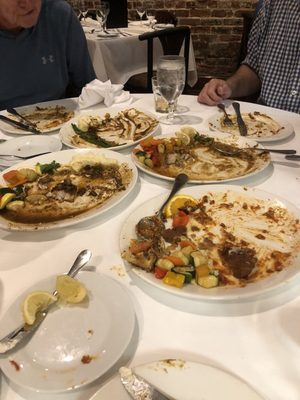salad: (0, 275, 89, 358), (0, 287, 60, 356), (159, 173, 189, 217)
sandwich: (0, 112, 40, 133), (232, 102, 247, 136)
sushi: (119, 182, 300, 319), (0, 260, 140, 400)
